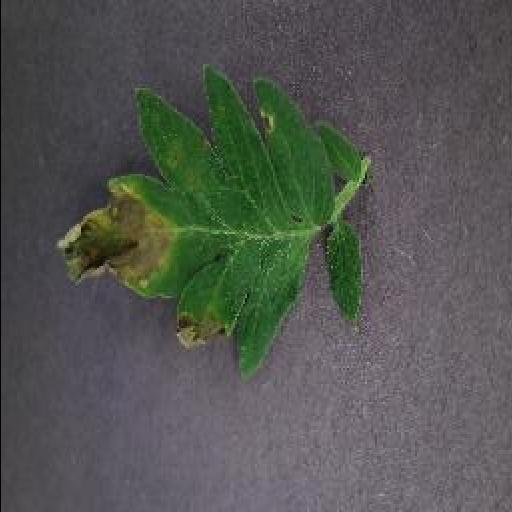disease_tomato: (52, 70, 364, 378)
